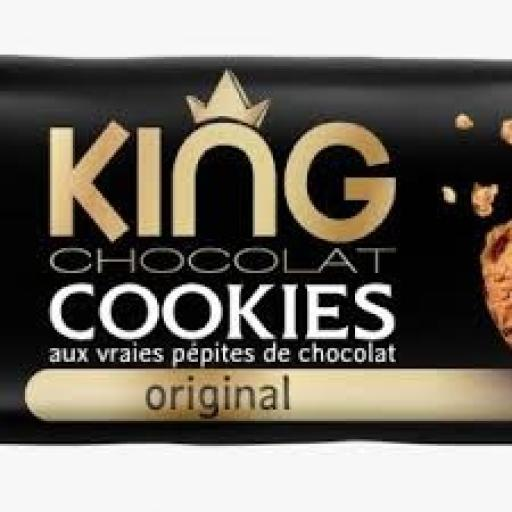king_cooking: (3, 46, 511, 445)
